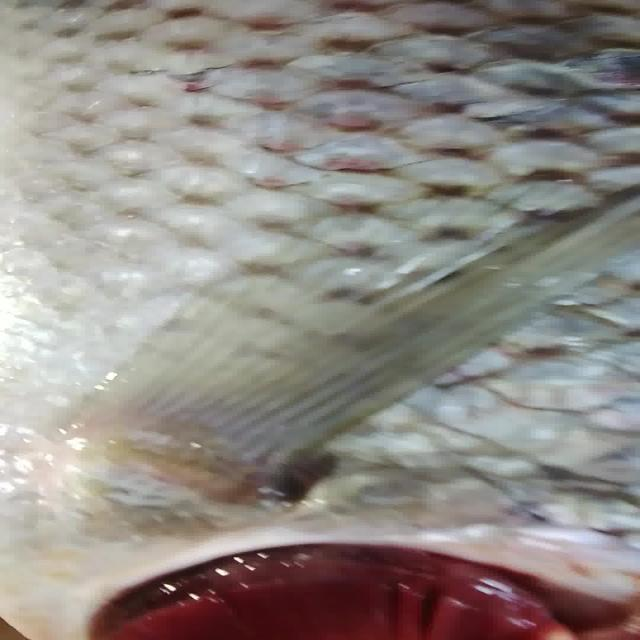Fresh: (95, 547, 549, 640)
